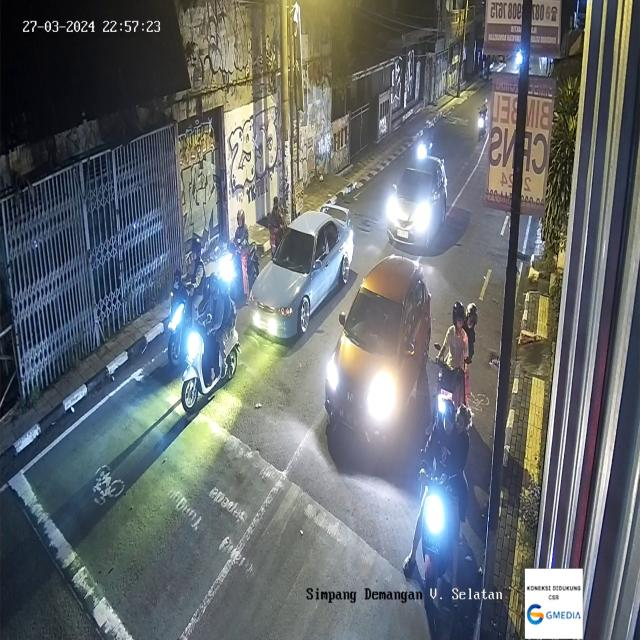car: (321, 252, 435, 461), (246, 206, 351, 339), (389, 161, 448, 267)
motorcycle: (416, 388, 472, 613), (181, 266, 240, 414), (438, 294, 478, 425), (169, 240, 203, 364), (226, 208, 262, 304), (415, 117, 434, 163), (477, 100, 488, 149)
